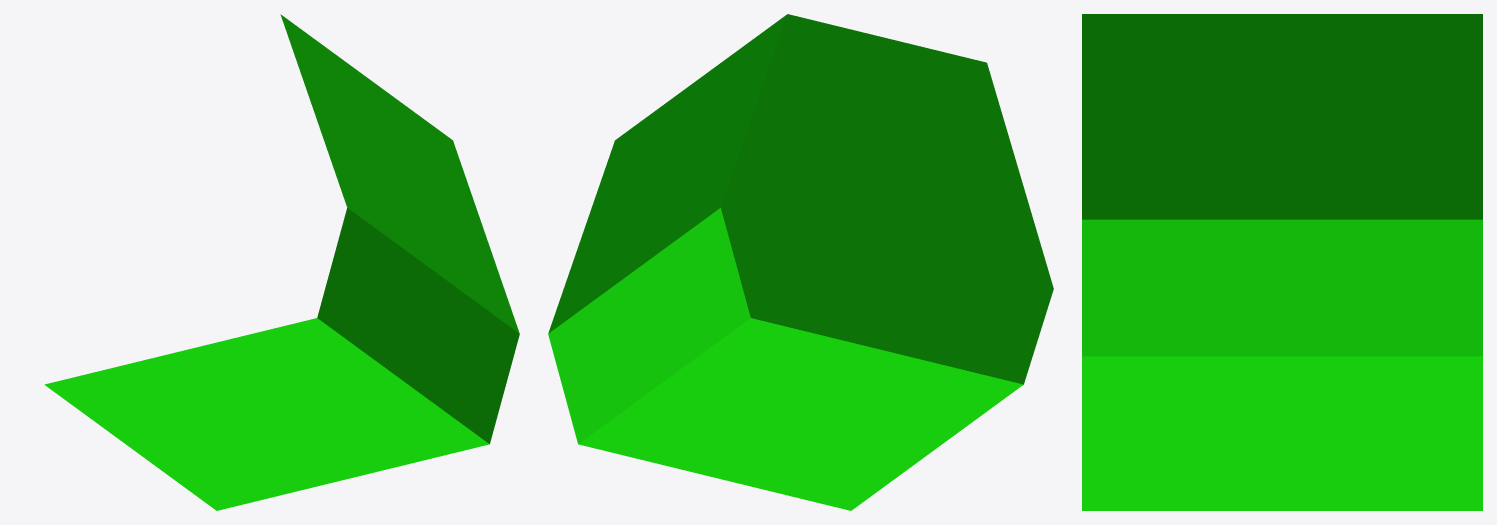
File: corridor_segment.004.glb
3 renders of one model, left to right at view 1: azimuth 30°, elevation 25°; view 2: azimuth 150°, elevation 25°; view 3: azimuth 270°, elevation 25°, orthographic. The views are drawn at different scales.
Parts seen in each view (by area): view 1: Corridor_segment.004; view 2: Corridor_segment.004; view 3: Corridor_segment.004.
Boxes of the visible parts, left/top/right/bottom form: Corridor_segment.004: left=44, top=14, right=519, bottom=510; Corridor_segment.004: left=548, top=14, right=1053, bottom=510; Corridor_segment.004: left=1082, top=14, right=1482, bottom=510.
Size of the model in its own units: 3.34 by 3 by 3.
